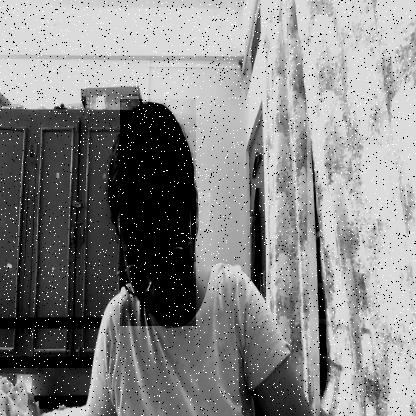Distracted: (120, 99, 196, 326)
